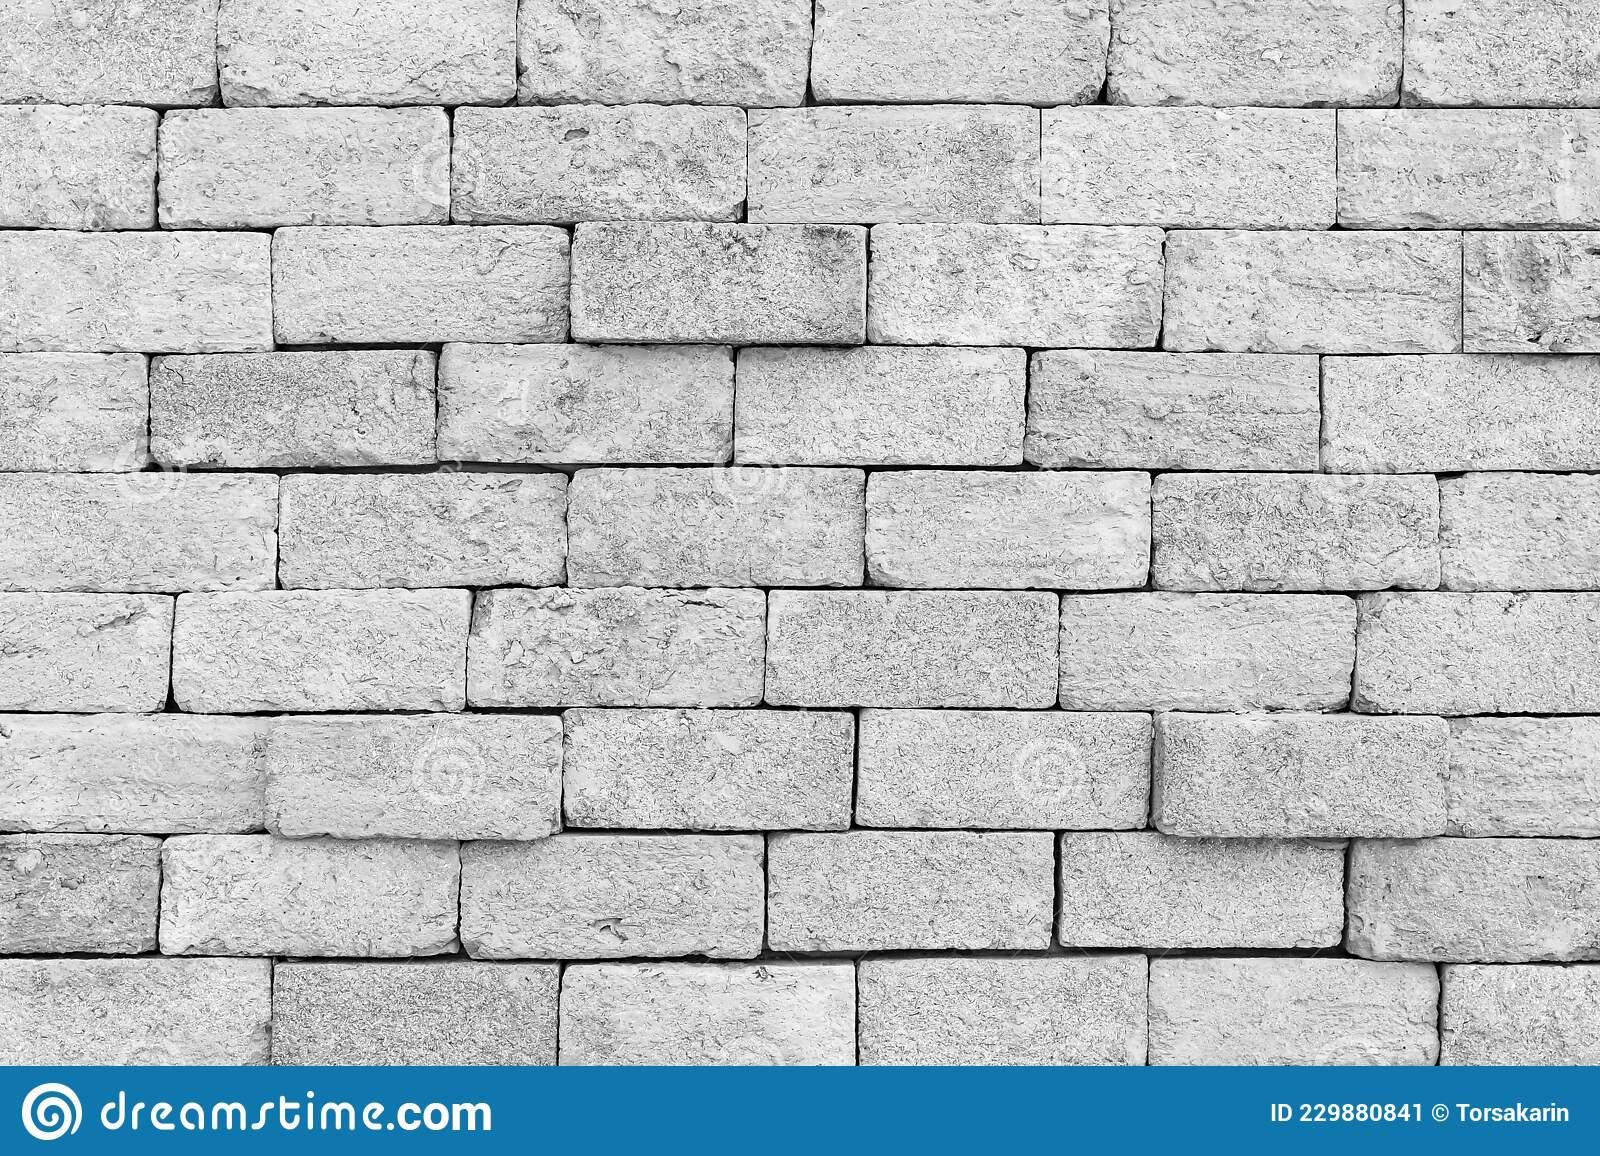brick: (460, 834, 764, 959), (173, 589, 473, 713), (868, 222, 1165, 348), (267, 716, 564, 841), (159, 834, 461, 956), (1041, 107, 1334, 231), (1161, 231, 1461, 351), (570, 466, 866, 587), (436, 343, 734, 463), (1165, 710, 1448, 837), (1026, 349, 1318, 471), (564, 709, 853, 831), (466, 591, 766, 708), (452, 104, 745, 224), (570, 224, 863, 343), (765, 590, 1061, 708), (159, 108, 448, 228), (858, 709, 1150, 828), (1061, 595, 1357, 711), (748, 104, 1040, 222), (272, 226, 565, 343), (734, 346, 1024, 464), (1152, 474, 1441, 591), (770, 832, 1053, 950), (0, 472, 277, 592), (868, 471, 1150, 589), (278, 473, 566, 587), (1061, 832, 1343, 949), (150, 351, 435, 467), (1, 232, 273, 353), (1320, 355, 1600, 472), (858, 955, 1147, 1065), (217, 0, 517, 106), (1108, 0, 1404, 107), (517, 0, 812, 107), (0, 713, 265, 832), (1338, 109, 1600, 228), (1349, 836, 1600, 960), (814, 0, 1112, 104), (1149, 959, 1440, 1064), (558, 964, 853, 1067), (272, 962, 559, 1065), (1353, 592, 1600, 711), (1, 959, 272, 1065), (0, 1, 217, 104), (1405, 0, 1600, 107), (1, 592, 175, 711), (0, 832, 159, 954), (0, 106, 155, 230), (1442, 472, 1600, 590), (1447, 716, 1600, 837), (0, 351, 149, 472), (1463, 231, 1600, 351), (1440, 965, 1600, 1065)
